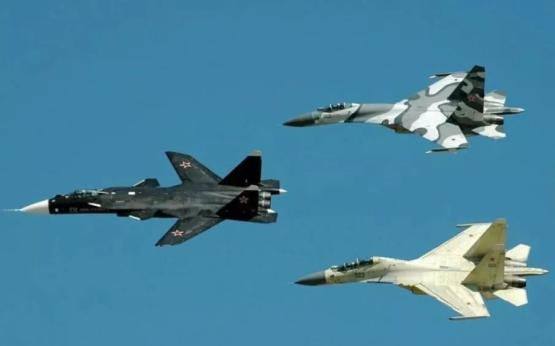airplane: (10, 142, 289, 249), (290, 214, 548, 326), (282, 64, 527, 156)
